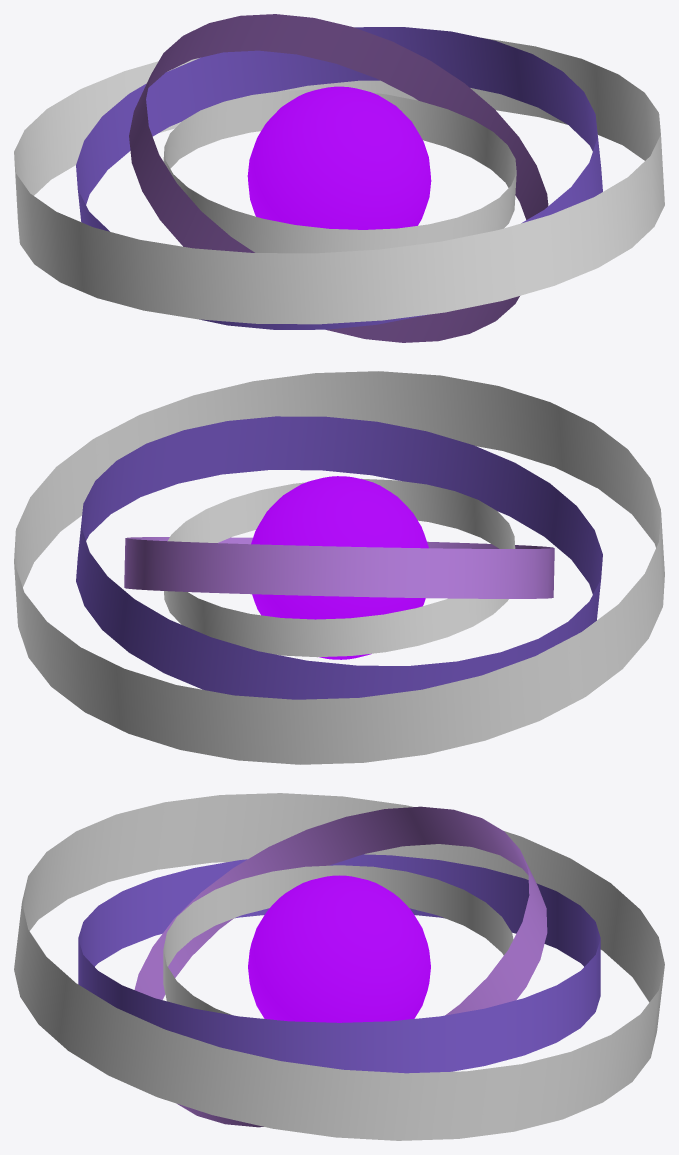
File: metalicOrb5.glb
3 views of the same model, one above another, from view 1: azimuth 30°, elevation 25°; view 2: azimuth 150°, elevation 25°; view 3: azimuth 270°, elevation 25° (orthographic).
Parts seen in each view (by area): view 1: Cylinder.003, Cylinder.002, Cylinder.001, Sphere, Cylinder; view 2: Cylinder.003, Cylinder.002, Cylinder.001, Cylinder, Sphere; view 3: Cylinder.003, Cylinder.002, Sphere, Cylinder.001, Cylinder.
Part boxes in pixels (x1,y1,x2,y2): Cylinder.003: (14,38,664,324); Cylinder.002: (76,27,602,329); Cylinder.001: (129,14,548,342); Sphere: (247,86,431,229); Cylinder: (163,89,516,253); Cylinder.003: (14,371,664,764); Cylinder.002: (76,416,602,699); Cylinder.001: (124,537,554,598); Cylinder: (164,478,515,657); Sphere: (251,476,428,659); Cylinder.003: (14,793,664,1140); Cylinder.002: (78,854,600,1073); Sphere: (248,875,430,1022); Cylinder.001: (134,806,547,1127); Cylinder: (163,865,513,1015).
Bounding box in the file's own units: 5.87 × 2 × 5.91.
